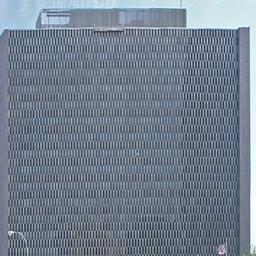building: (4, 8, 250, 255)
